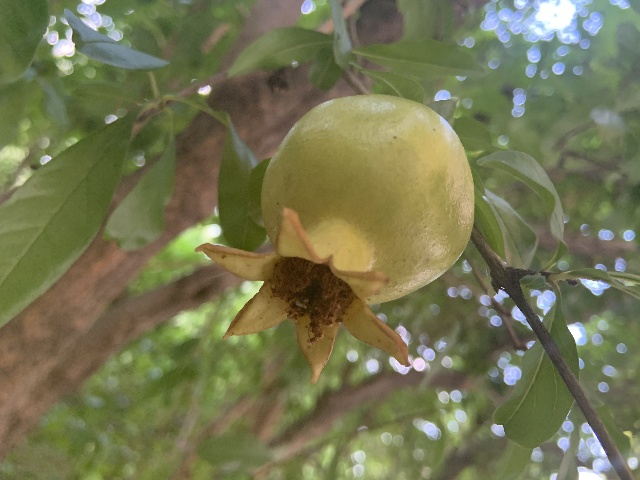mid-growth: (194, 93, 475, 383)
